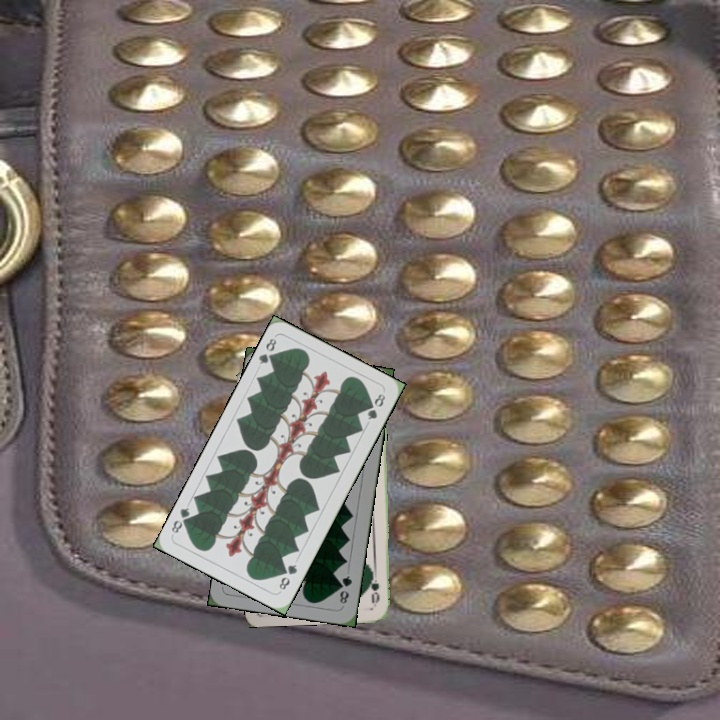G8: (254, 334, 280, 367), (275, 560, 300, 593), (336, 571, 355, 607)
GO: (367, 566, 382, 606)
